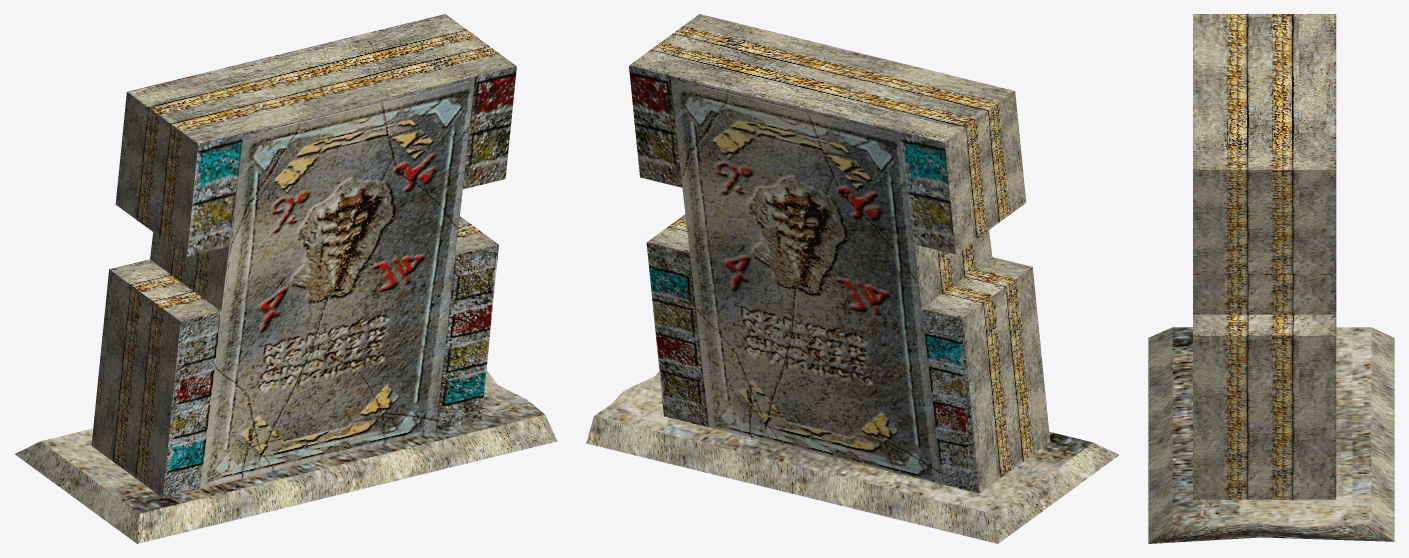
File: Totem_Large_Left.fbx
3 renders of one model, left to right at view 1: azimuth 30°, elevation 25°; view 2: azimuth 150°, elevation 25°; view 3: azimuth 270°, elevation 25°, orthographic.
Visible parts, largest first — view 1: object_3; view 2: object_3; view 3: object_3.
Boxes of the visible parts, left/top/right/bottom form: object_3: left=15, top=14, right=557, bottom=543; object_3: left=586, top=14, right=1118, bottom=543; object_3: left=1148, top=14, right=1394, bottom=543.
Bounding box in the file's own units: 514 × 422 × 258.
